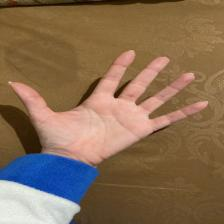five: (12, 52, 211, 156)
